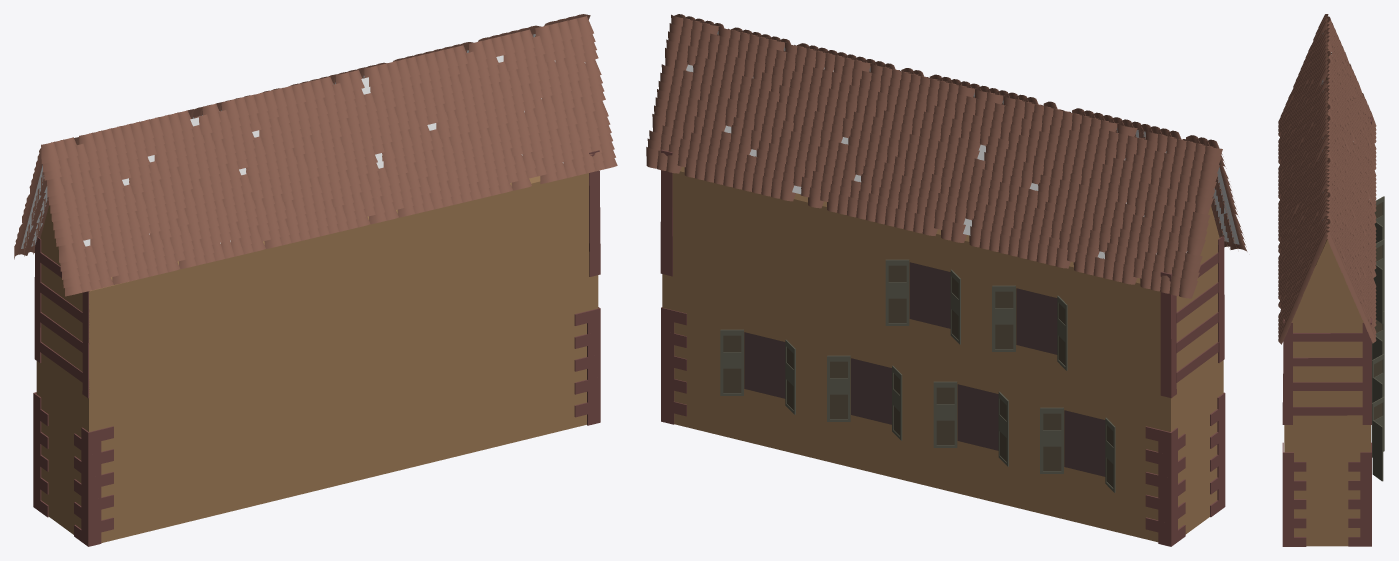
The model's file is SM_Env_House01.fbx.
The picture shows the model from 3 angles, left to right: view 1: azimuth 30°, elevation 25°; view 2: azimuth 150°, elevation 25°; view 3: azimuth 270°, elevation 25°; orthographic projection. The views are drawn at different scales.
Parts seen in each view (by area): view 1: Cube, Corner.001, Corner.002, Plane.013, Corner.003, Plane.007, Plane.015, Plane.014; view 2: Cube, Plane.020, Plane.021, Corner.003, Corner, Plane.013, Corner.001, Plane.008, Plane.016, Plane.014, Plane.015, Plane.011; view 3: Cube, Plane.004, Plane.020, Corner.002, Corner, Plane.021, Plane.005, Plane.006.
Boxes of the visible parts, <box> form: Cube: <box>36,173,598,542</box>; Corner.001: <box>74,426,113,546</box>; Corner.002: <box>574,307,600,425</box>; Plane.013: <box>40,252,82,382</box>; Corner.003: <box>33,392,48,517</box>; Plane.007: <box>589,150,600,276</box>; Plane.015: <box>34,237,41,362</box>; Plane.014: <box>82,291,89,398</box>; Cube: <box>662,166,1223,542</box>; Plane.020: <box>720,329,1115,492</box>; Plane.021: <box>885,259,1067,370</box>; Corner.003: <box>1145,426,1185,546</box>; Corner: <box>661,307,686,424</box>; Plane.013: <box>1176,252,1218,382</box>; Corner.001: <box>1210,392,1225,517</box>; Plane.008: <box>662,150,672,276</box>; Plane.016: <box>1160,272,1169,397</box>; Plane.014: <box>1218,236,1224,362</box>; Plane.015: <box>1169,273,1176,398</box>; Plane.011: <box>717,31,1239,244</box>; Cube: <box>1284,44,1370,546</box>; Plane.004: <box>1293,333,1362,415</box>; Plane.020: <box>1371,293,1384,481</box>; Corner.002: <box>1282,442,1306,546</box>; Corner: <box>1348,442,1371,546</box>; Plane.021: <box>1373,196,1384,323</box>; Plane.005: <box>1362,322,1371,424</box>; Plane.006: <box>1283,322,1292,424</box>.
Size of the model in its own units: 901 by 4452 by 2993.
